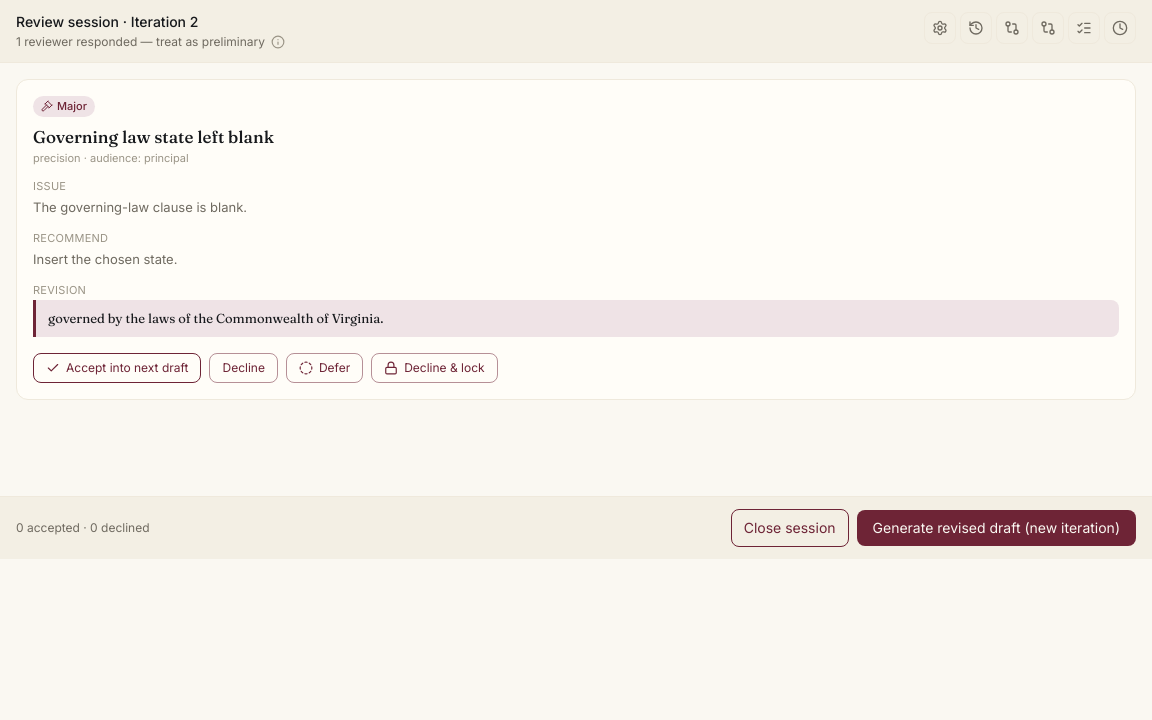
Test: REVIEW-UX-REDESIGN-1 — on-demand reference-tool overlay › a header icon opens a floating overlay (zero docked width)
Step 1. Click the button named "Provision provenance" → {"x": 976, "y": 28}, box [960,12,992,44]
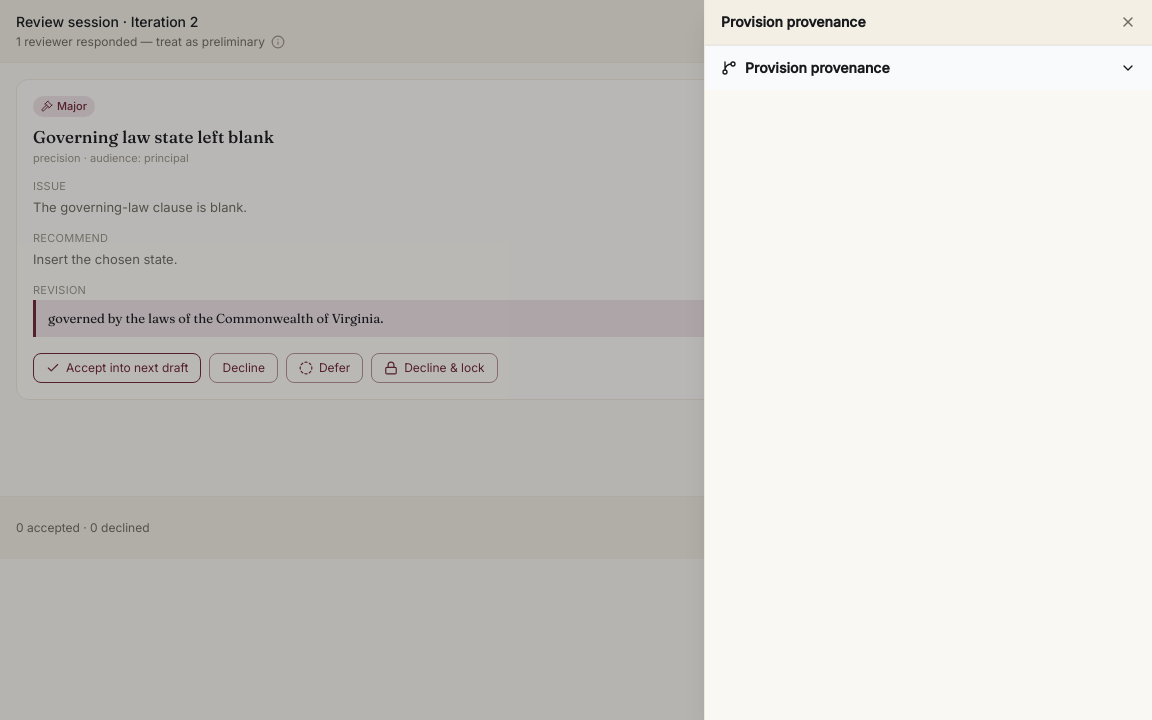
Expected: the element with test id "review-tool-overlay" is shown
# The overlay closes via its labelled control.
Step 2. Click the button named "Close" → {"x": 1128, "y": 22}, box [1120,14,1136,30]
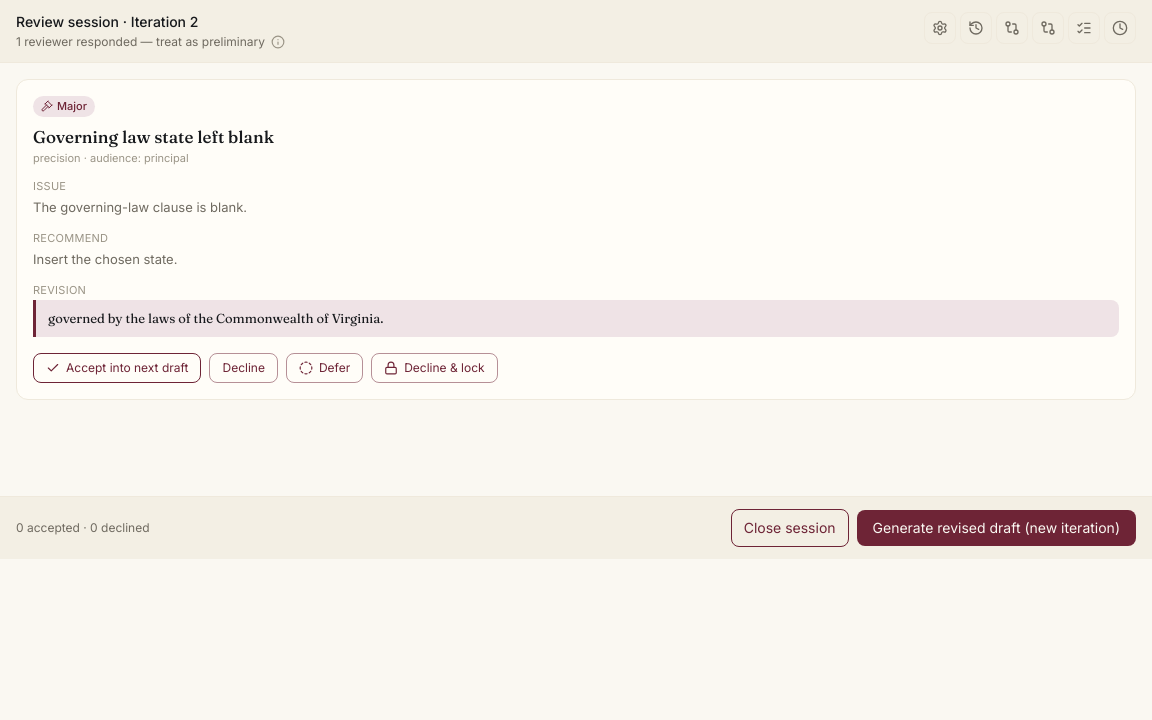
Expected: the element with test id "review-tool-overlay" is gone
